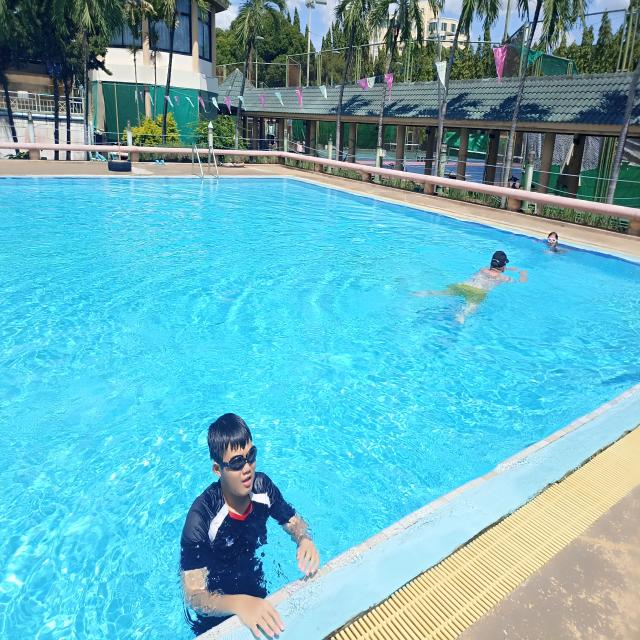Swimming: (177, 410, 321, 640), (411, 248, 532, 326), (542, 227, 564, 259)
